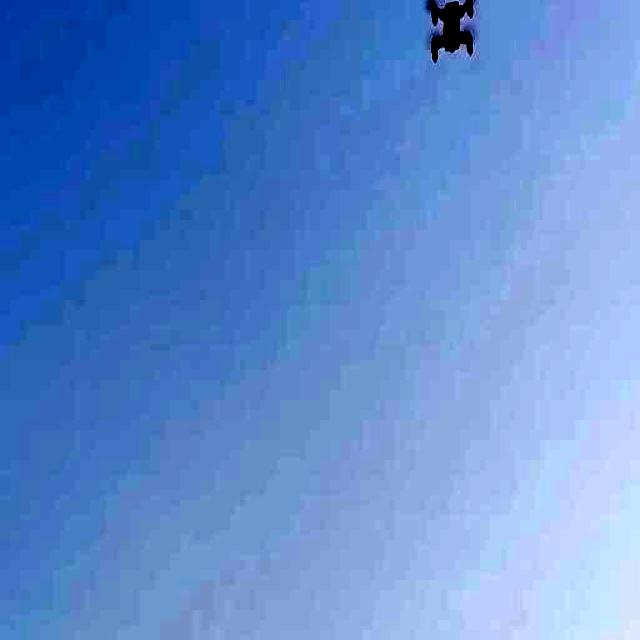bird: (422, 0, 484, 71)
